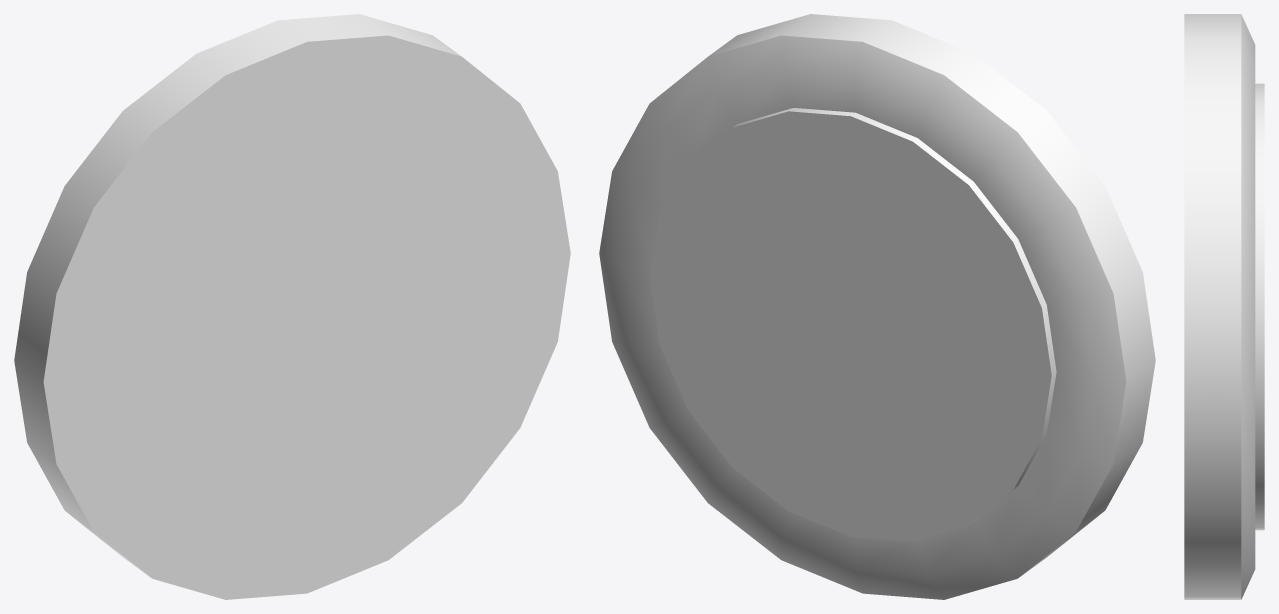
File: bullet_portal.fbx
The picture shows the model from 3 angles, left to right: view 1: azimuth 30°, elevation 25°; view 2: azimuth 150°, elevation 25°; view 3: azimuth 270°, elevation 25°; orthographic projection. The views are drawn at different scales.
Visible parts, largest first — view 1: bullet_portal; view 2: bullet_portal; view 3: bullet_portal.
Part boxes in pixels (x1=…): bullet_portal: x1=14, y1=14, x2=570, y2=599; bullet_portal: x1=599, y1=14, x2=1155, y2=599; bullet_portal: x1=1184, y1=14, x2=1264, y2=599.
Size of the model in its own units: 0.9582 by 0.9582 by 0.1301.
